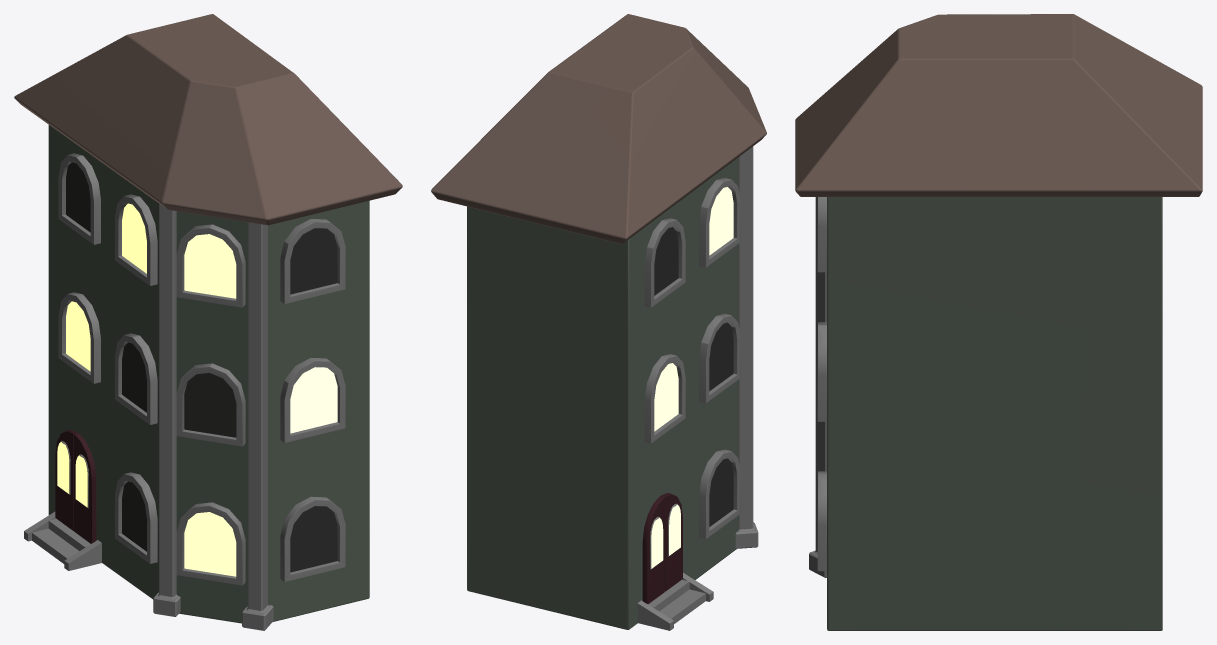
File: PredioTeste.fbx
3 views of the same model, side by side, from view 1: azimuth 30°, elevation 25°; view 2: azimuth 150°, elevation 25°; view 3: azimuth 270°, elevation 25° (orthographic). The views are drawn at different scales.
Parts seen in each view (by area): view 1: Cube, Cube.003, Cube.002, Plane.002, Plane, Plane.003, Plane.004, Plane.005, Plane.007, Plane.006, Cube.001; view 2: Cube, Cube.003, Plane.003, Cube.002, Plane.004, Plane.005, Plane.007, Plane.006, Cube.001; view 3: Cube, Cube.003, Plane, Cube.002.
Part boxes in pixels (x1,y1,x2,y2): Cube: (48, 125, 369, 623); Cube.003: (14, 14, 402, 225); Cube.002: (153, 204, 273, 630); Plane.002: (176, 224, 245, 585); Plane: (280, 219, 345, 581); Plane.003: (115, 194, 157, 563); Plane.004: (58, 153, 100, 383); Plane.005: (55, 430, 96, 543); Plane.007: (32, 518, 90, 563); Plane.006: (57, 440, 88, 508); Cube.001: (24, 511, 101, 570); Cube: (467, 157, 738, 629); Cube.003: (431, 14, 766, 243); Plane.003: (699, 178, 740, 538); Cube.002: (735, 146, 758, 548); Plane.004: (644, 218, 685, 443); Plane.005: (642, 493, 682, 603); Plane.007: (648, 580, 705, 623); Plane.006: (650, 503, 680, 569); Cube.001: (637, 573, 713, 630); Cube: (827, 197, 1162, 630); Cube.003: (795, 14, 1202, 196); Plane: (817, 197, 826, 571); Cube.002: (809, 197, 826, 577).
Bounding box in the file's own units: 4.88 × 10.95 × 7.34.
